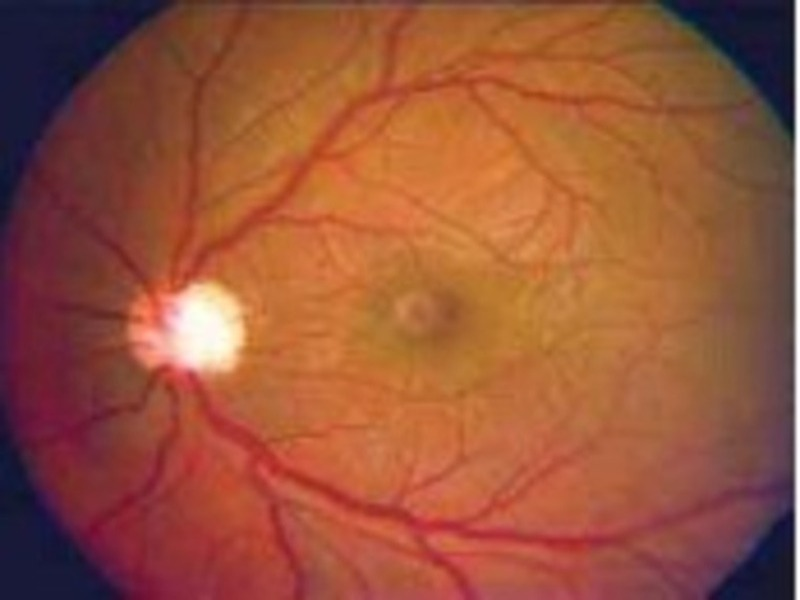Optic Cup: (167, 297, 231, 363)
Optic Disc: (129, 274, 250, 376)
